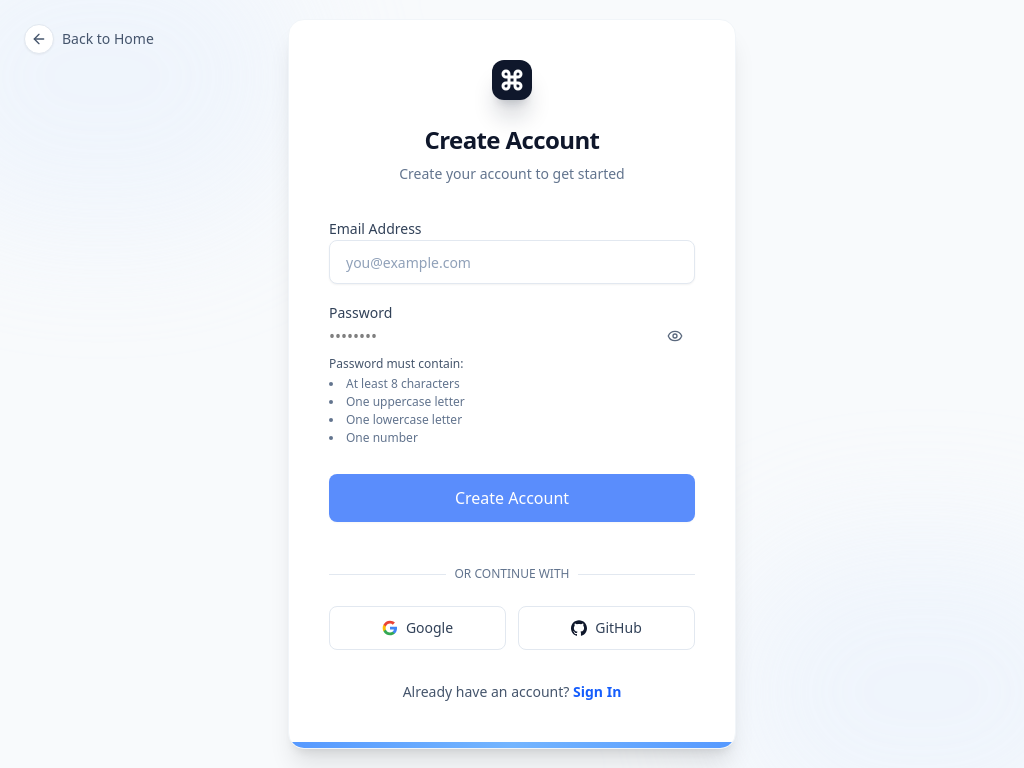
Test case: signUpPage › validates email format
Type "invalid-email" into the field labelled "Email Address" at x=512, y=262, box left=329, top=240, right=695, bottom=284
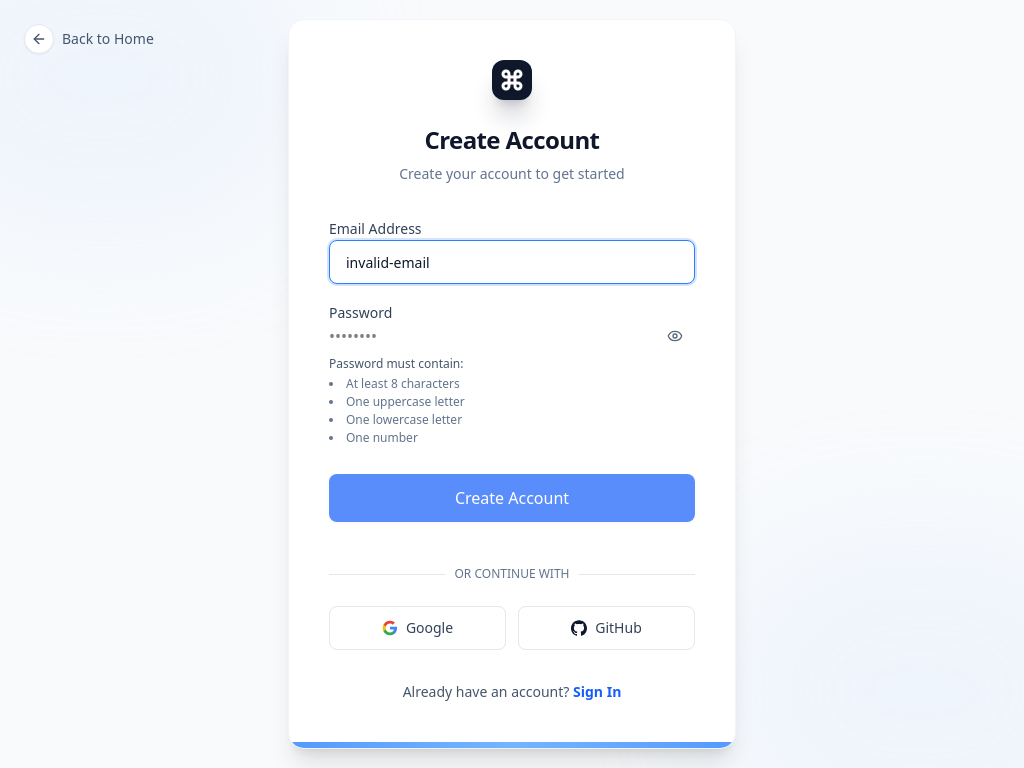
Press Tab
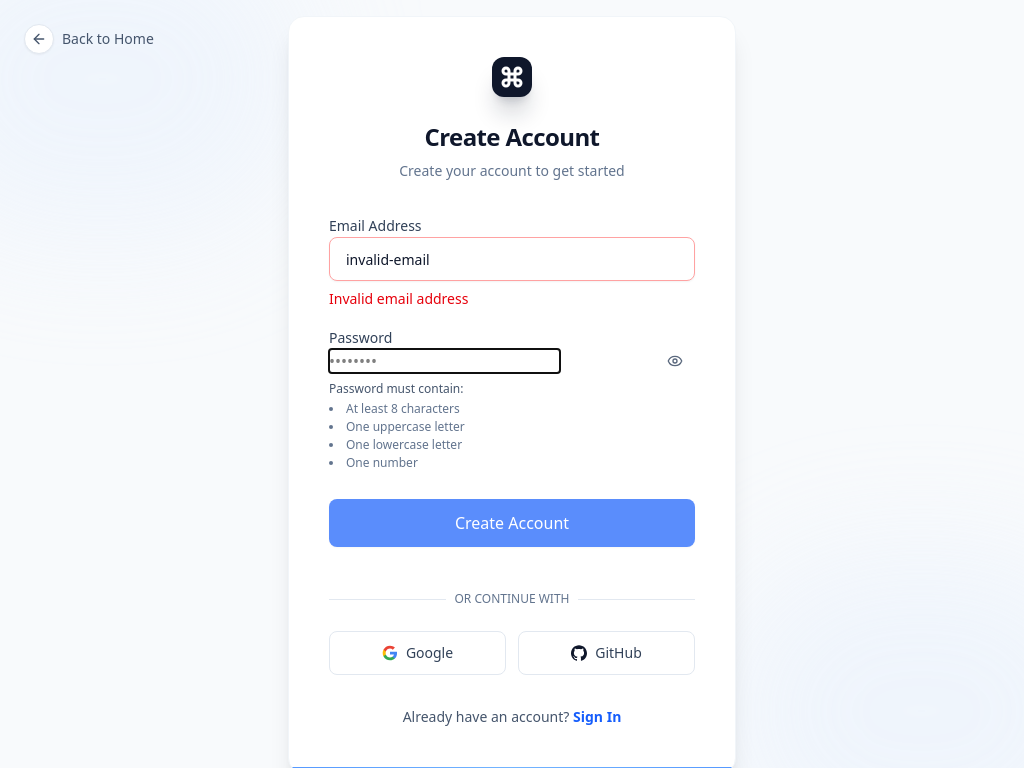
Check: the text "Invalid email address" is shown, box left=329, top=289, right=468, bottom=308
